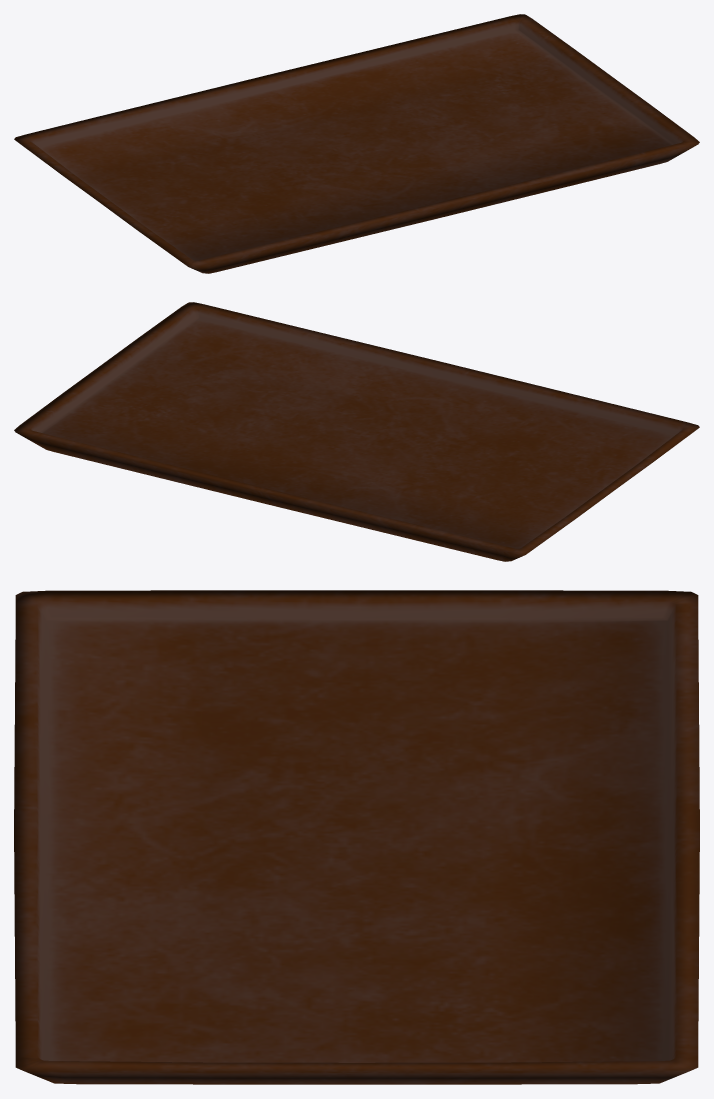
The model's file is Tray2.fbx.
3 renders of one model, top to bottom at view 1: azimuth 30°, elevation 25°; view 2: azimuth 150°, elevation 25°; view 3: azimuth 270°, elevation 25°, orthographic. The views are drawn at different scales.
Parts seen in each view (by area): view 1: R_Tray.001; view 2: R_Tray.001; view 3: R_Tray.001.
Boxes of the visible parts, <box> form: R_Tray.001: <box>14,14,699,273</box>; R_Tray.001: <box>14,302,699,561</box>; R_Tray.001: <box>14,590,699,1084</box>.
Size of the model in its own units: 39.45 by 1.33 by 23.79.
1 material, 1 textured.
